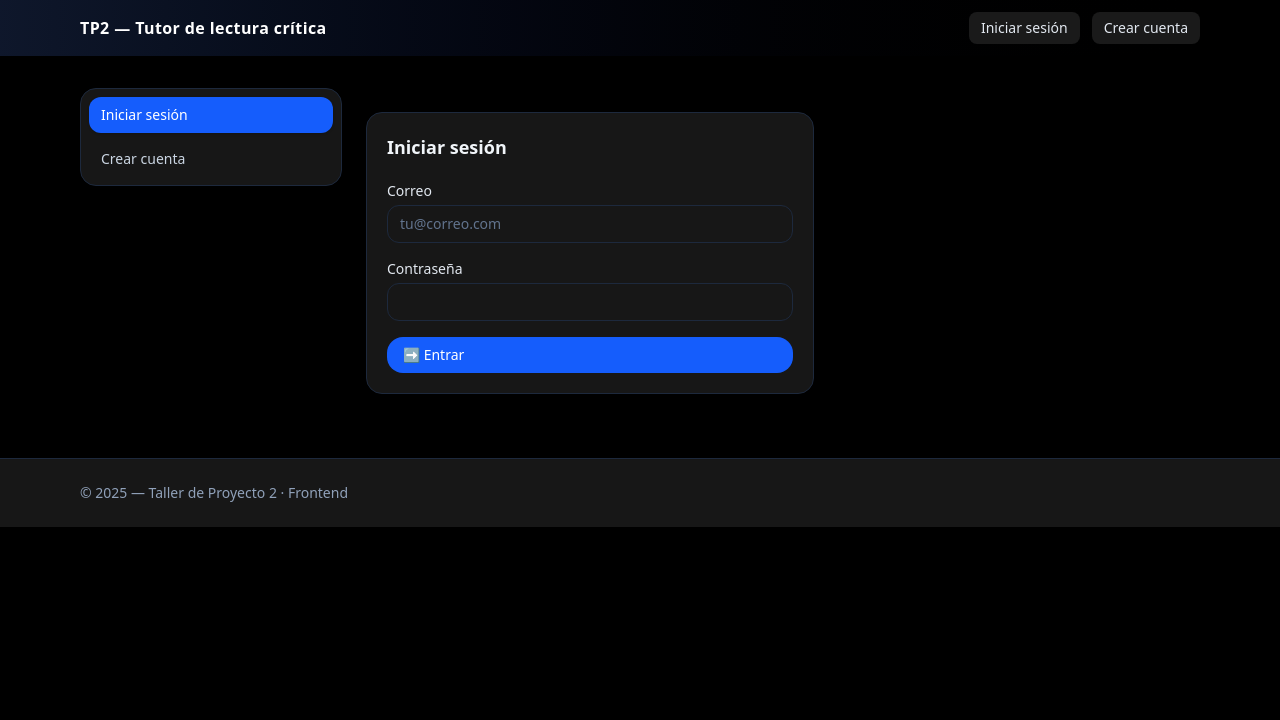
Test case: 🔐 Login Page E2E › ⚠️ Debe manejar error de red (Servidor Caído)
In the field with test id "login-email": {"x": 590, "y": 224} x1=387 y1=205 x2=793 y2=243, type "asd@gmail.com"
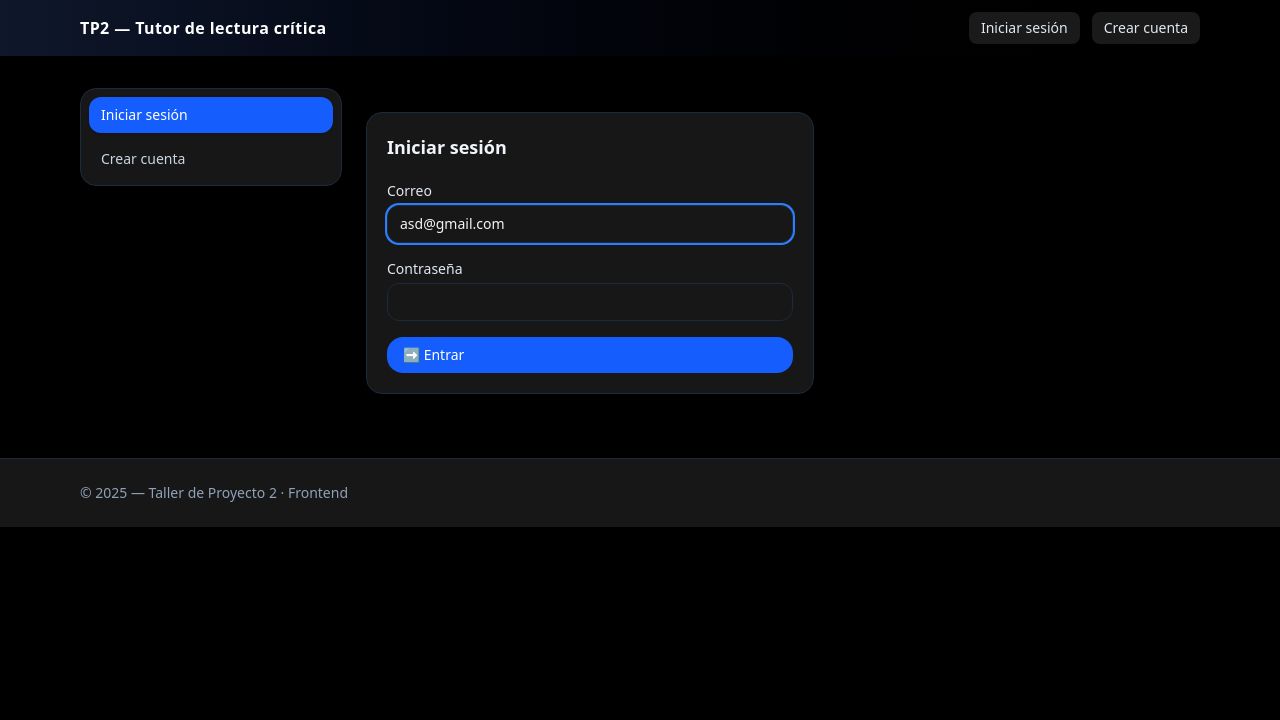
In the password field with test id "login-pass": {"x": 590, "y": 302} x1=387 y1=283 x2=793 y2=321, type "asdasdasd"
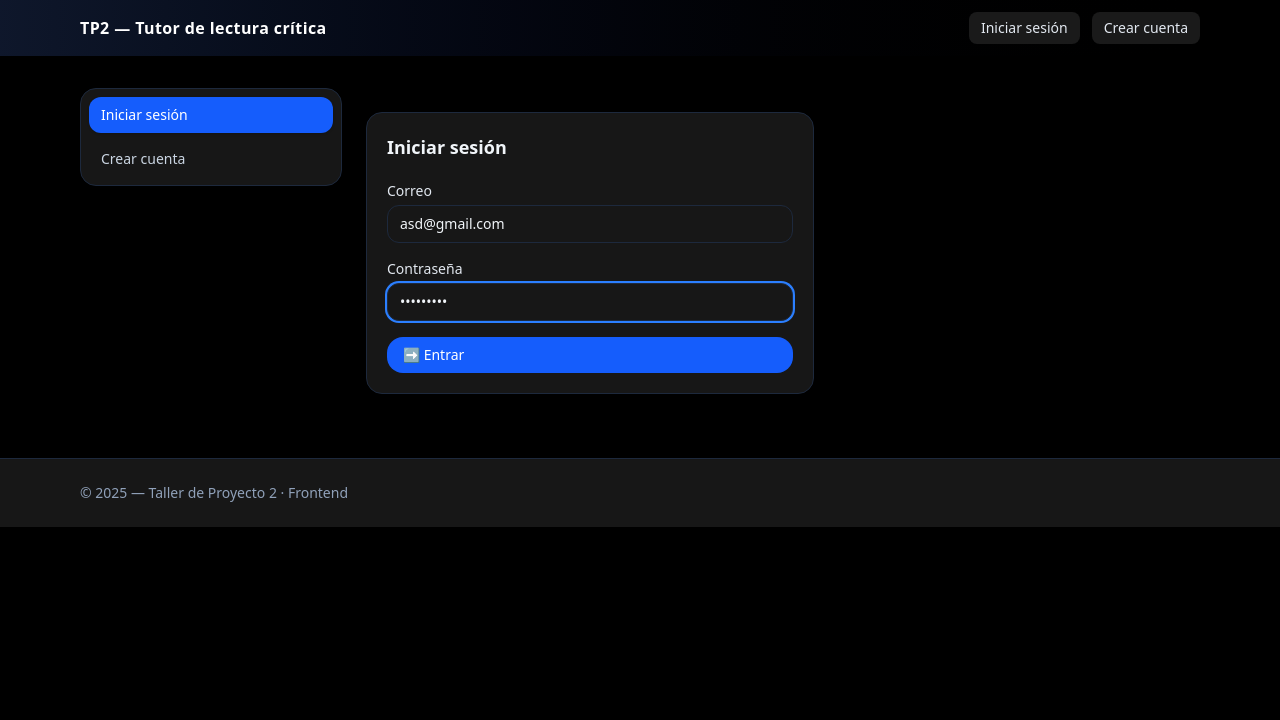
Click the button with test id "login-submit-btn": {"x": 434, "y": 355} x1=387 y1=337 x2=793 y2=373
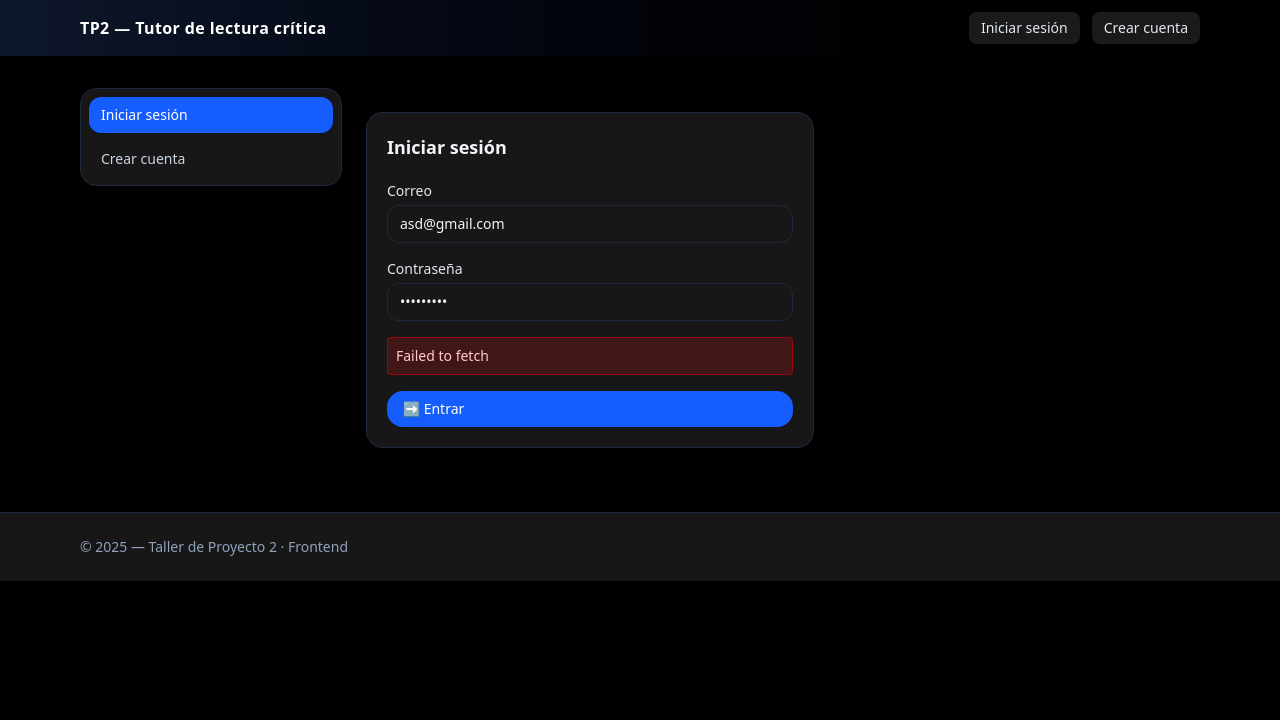
Check: the text with test id "login-feedback" reads "Failed to fetch", box x1=387 y1=337 x2=793 y2=375
